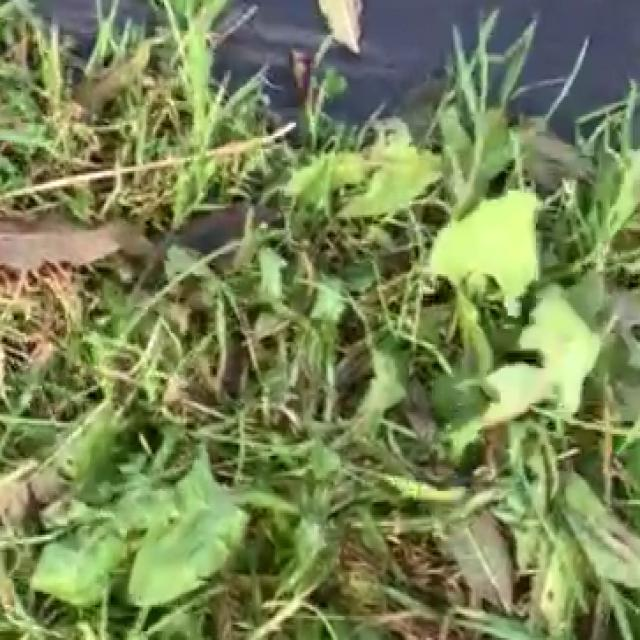organic waste: (280, 88, 632, 460), (0, 320, 323, 640)
